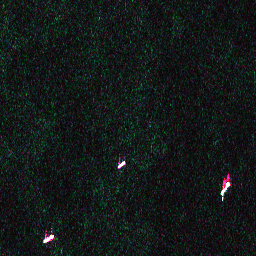ship: (218, 180, 232, 197), (40, 232, 56, 246), (116, 159, 128, 171)
